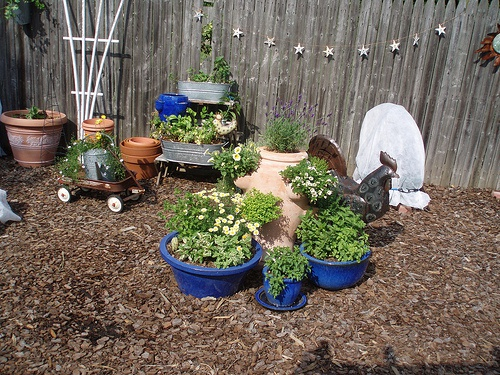flowerpot: (159, 230, 262, 297), (1, 109, 65, 167), (299, 243, 370, 291), (161, 133, 231, 163), (260, 265, 307, 309), (117, 136, 160, 180), (176, 80, 233, 104), (82, 148, 115, 183), (82, 119, 114, 144)
